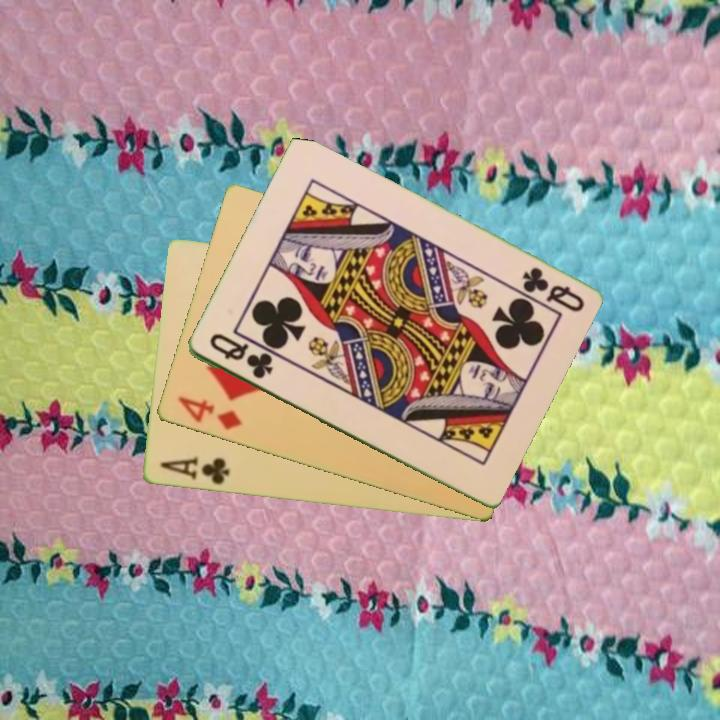4d: (174, 393, 245, 433)
Ac: (156, 454, 232, 488)
Qc: (205, 330, 276, 382), (518, 263, 587, 316)
